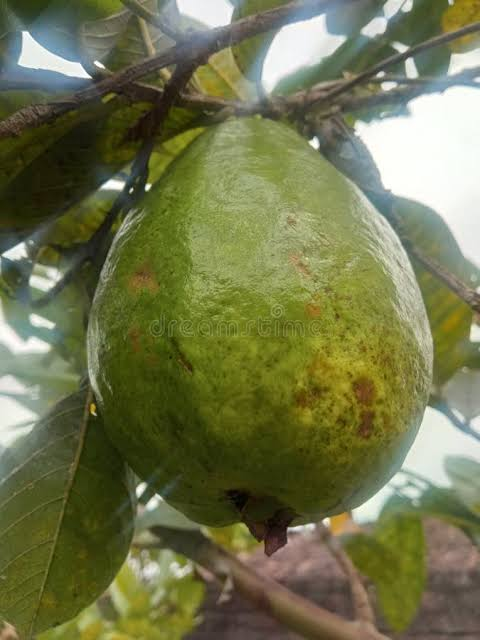guava: (73, 61, 469, 596)
